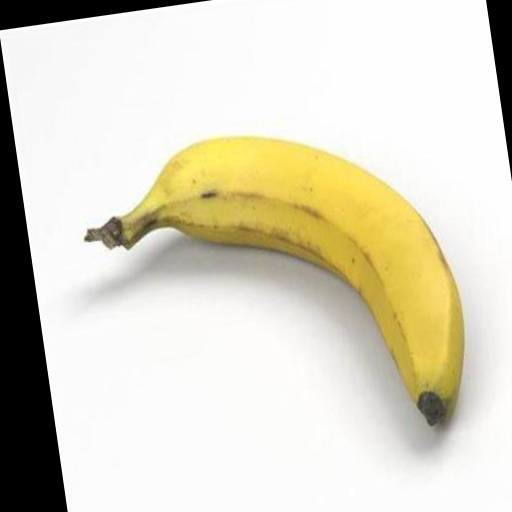fruit: (86, 137, 464, 424)
